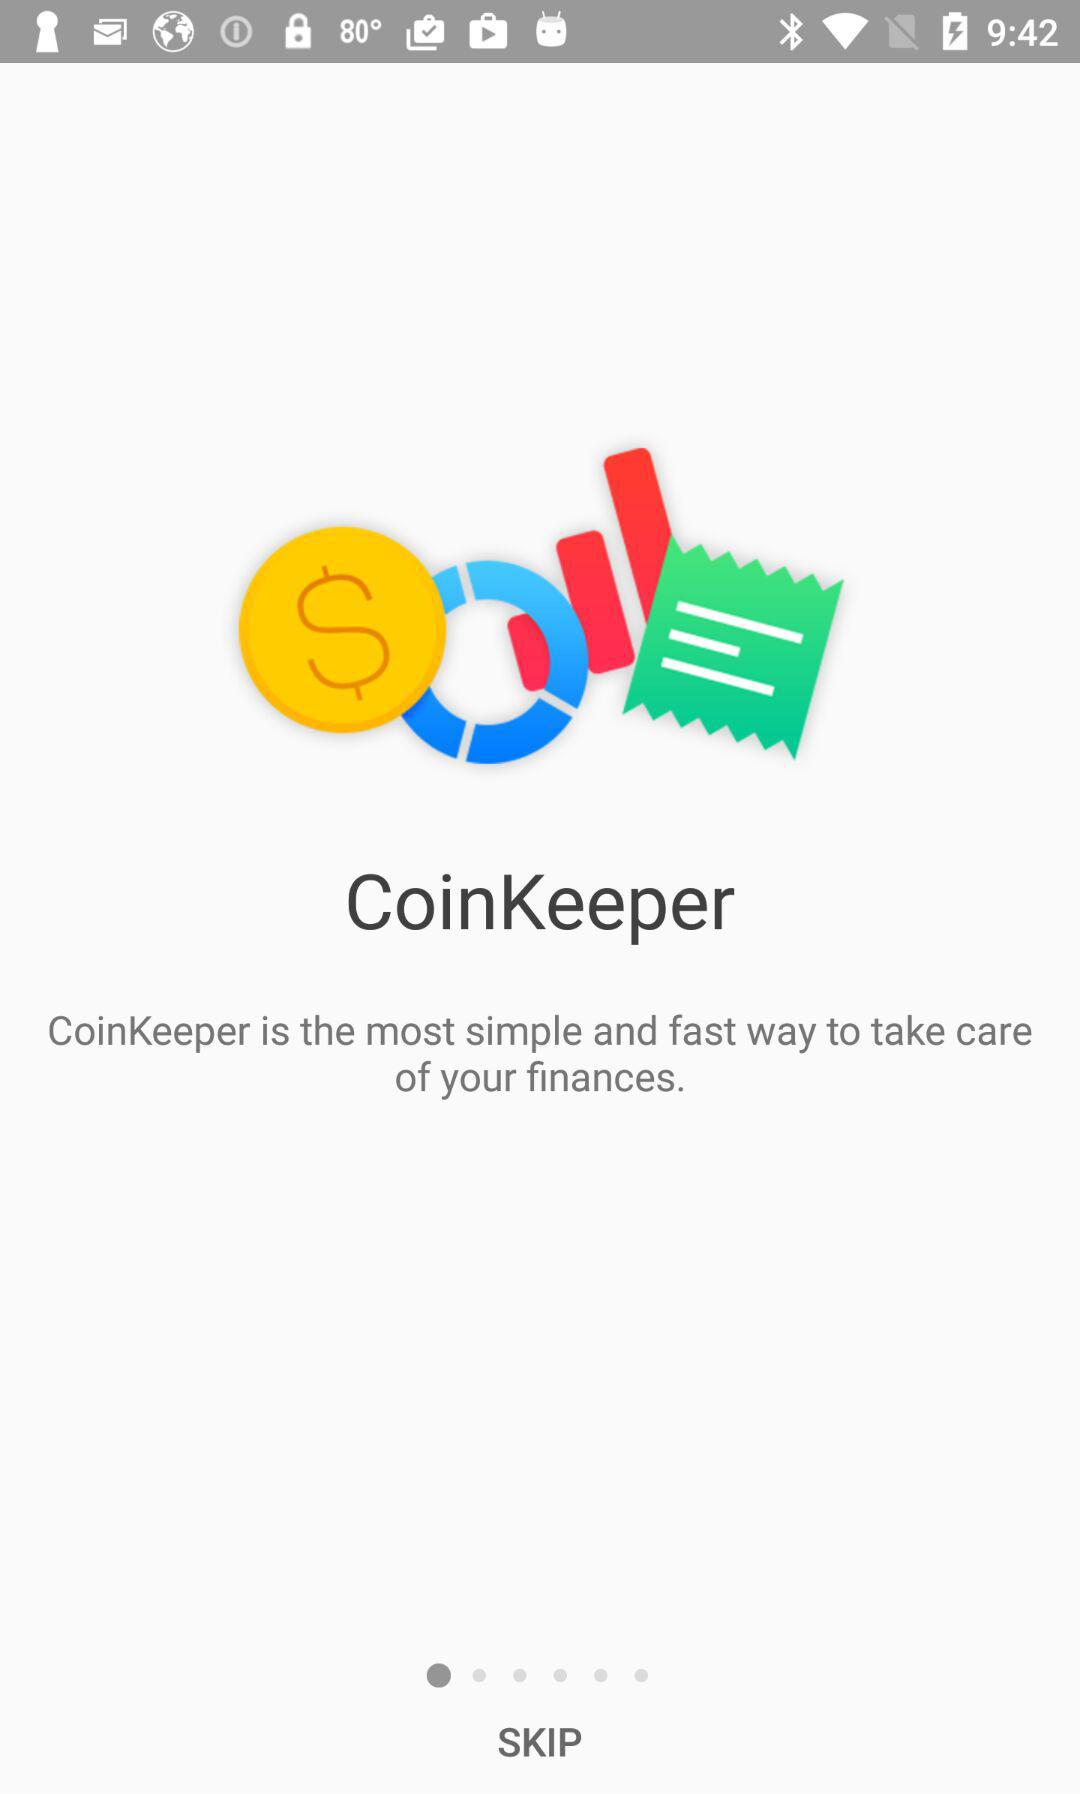Image: (234, 446, 847, 768)
PageIndicator: (425, 1661, 652, 1690)
Text: (47, 1011, 1034, 1103), (347, 871, 737, 948), (498, 1726, 583, 1759)
UpperTaskBar: (1, 1, 1080, 64)
